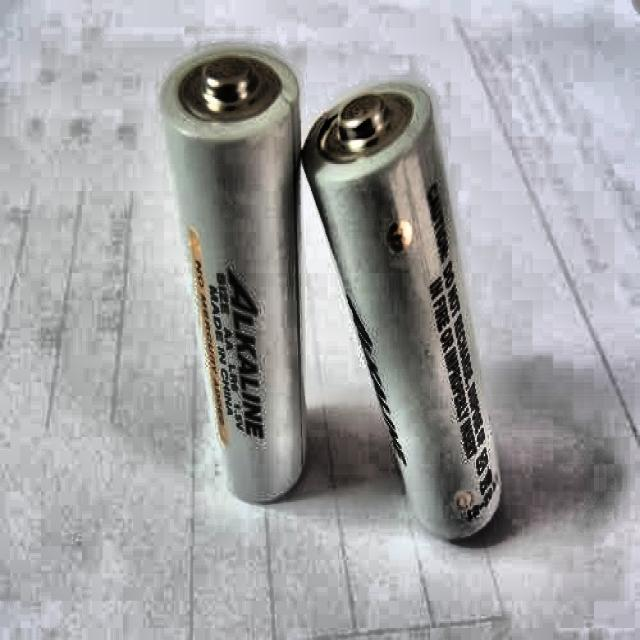Non-Valuable Waste - Batteries: (304, 83, 500, 539), (165, 48, 305, 501)
